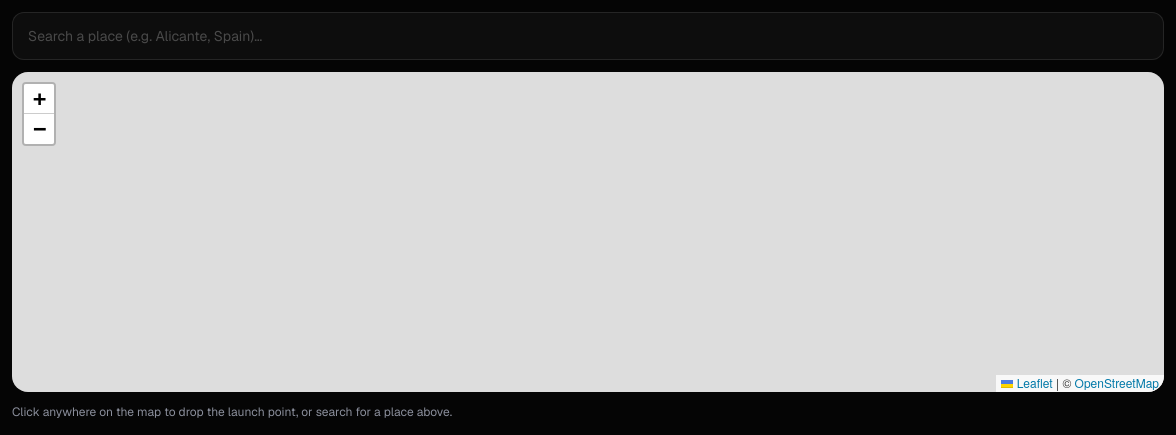
it: SitePicker — results list a11y (Web Interface Guidelines) › closes the results with Escape
Type "Alicante" into the search field named "Search launch site" at (588, 36), box [12,12,1164,60]
Wait 400 ms
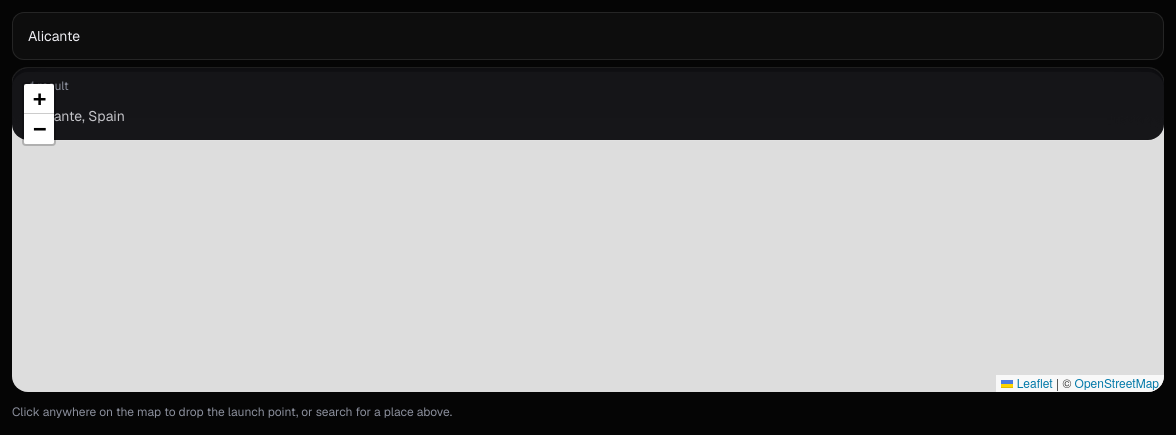
expect the button "Alicante, Spain" is shown: met, box [18,98,1158,134]
Press Escape in the search field named "Search launch site", box [12,12,1164,60]
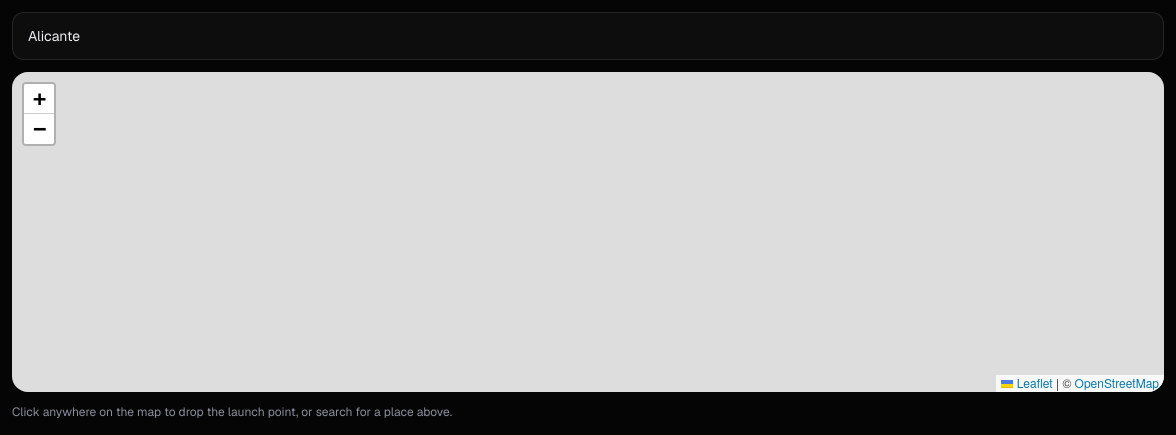
expect the button "Alicante, Spain" is gone: met
